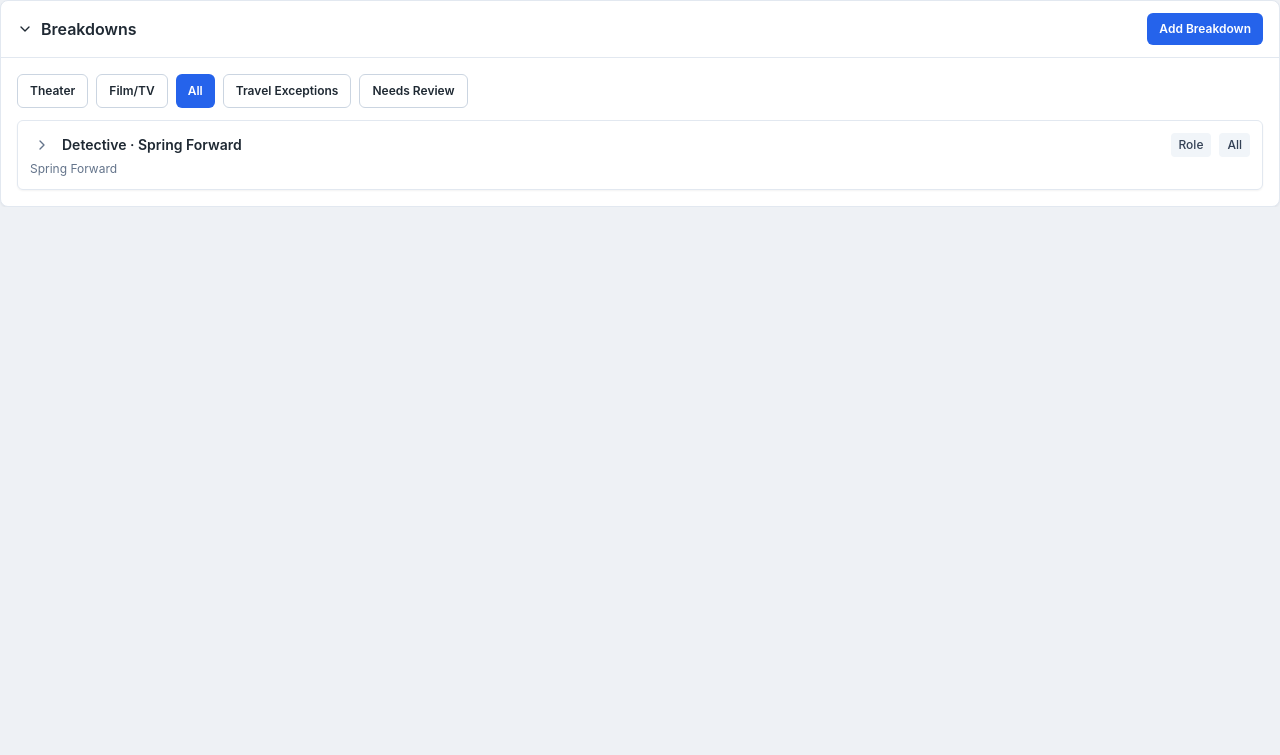
Test case: embedded opportunity form characterization › cancel discards the edit draft and reopening derives current props
Click the button named "Expand breakdown" at {"x": 42, "y": 145}, box [30, 133, 54, 157]
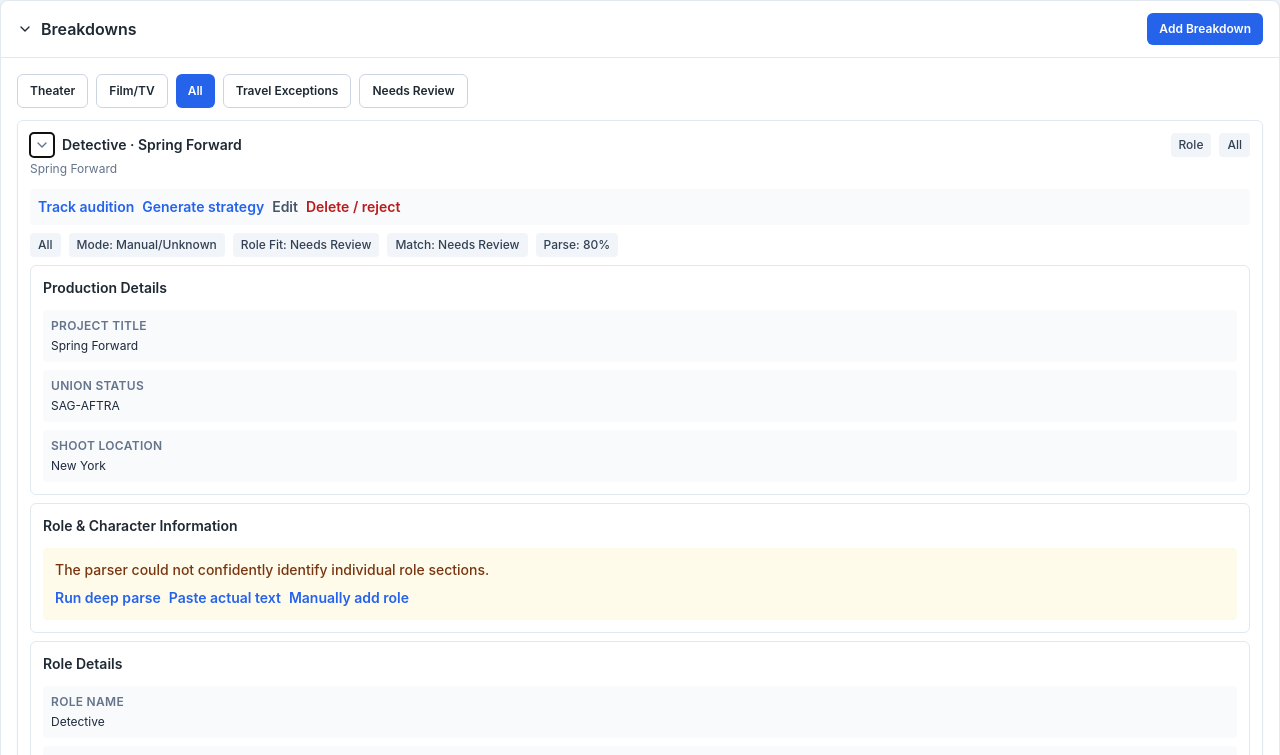
Click the button "Edit" at {"x": 285, "y": 207}, box [272, 197, 298, 217]
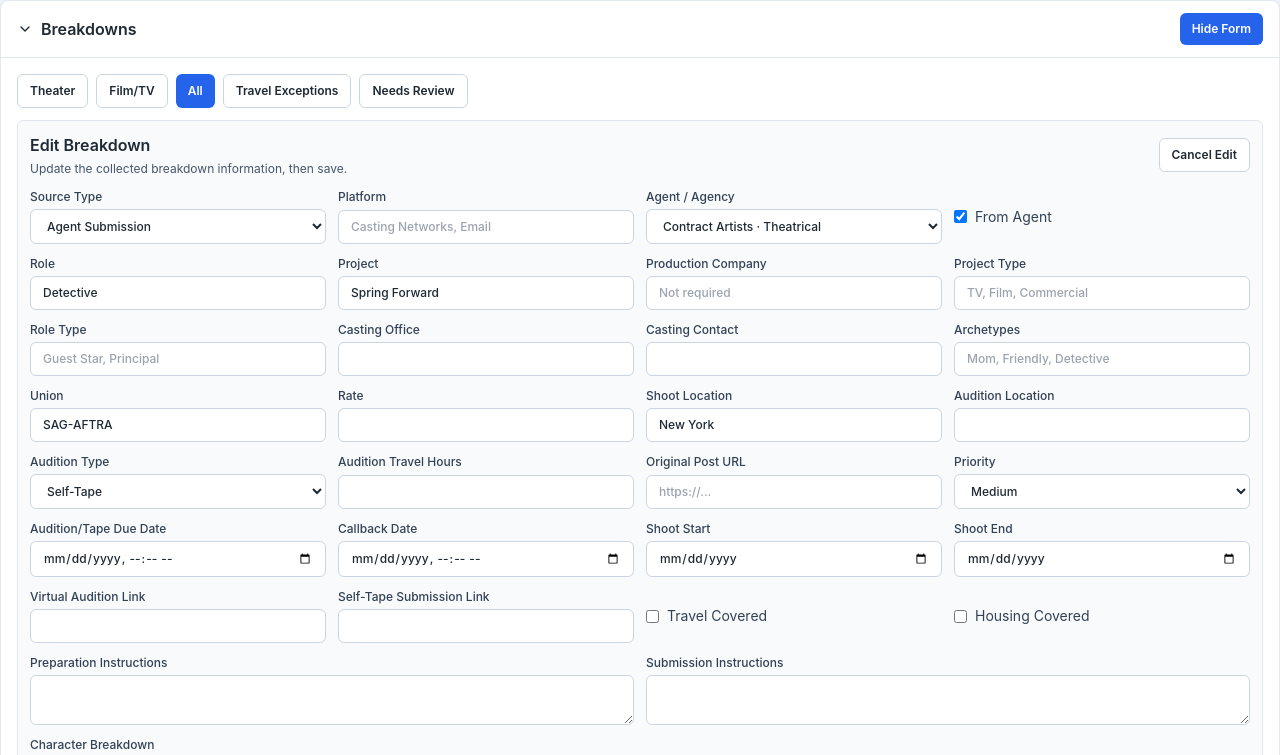
Replace the text in the field labelled "Role" with "Dirty Draft" at {"x": 178, "y": 293}, box [30, 276, 326, 310]
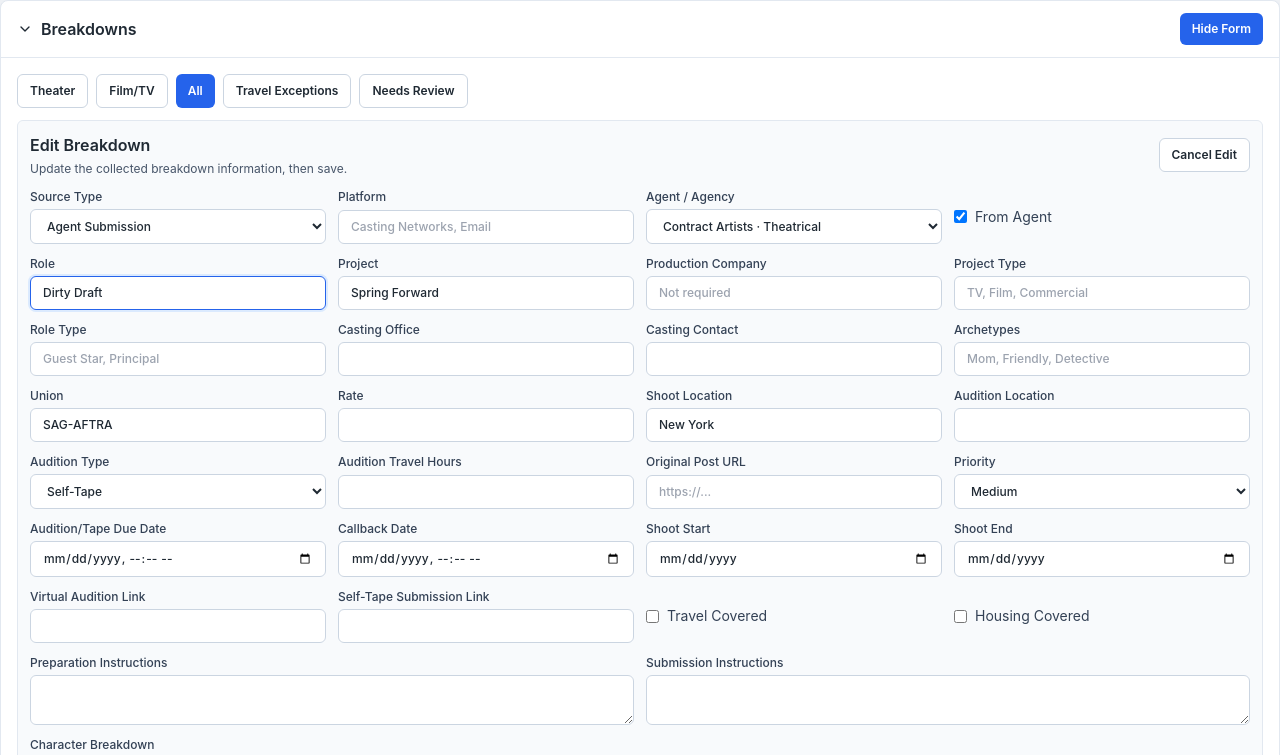
Click the button "Cancel Edit" at {"x": 1204, "y": 155}, box [1158, 138, 1250, 172]
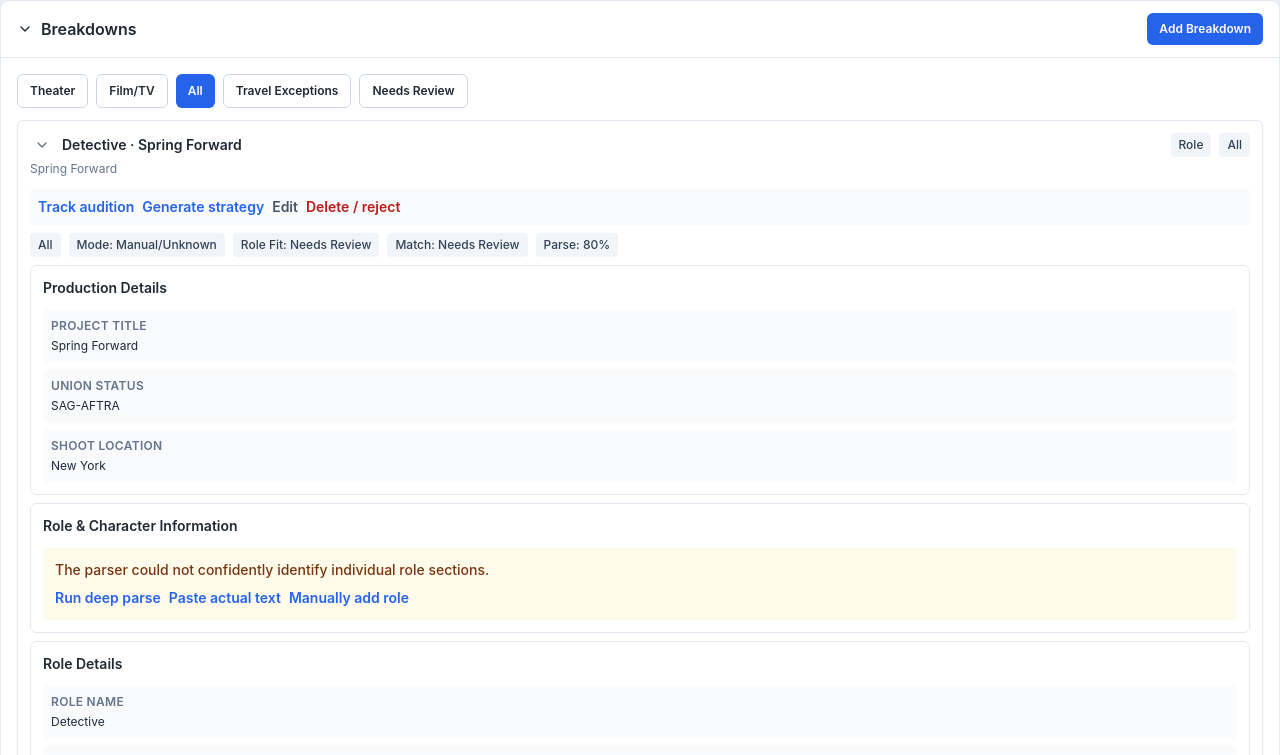
Click the button "Edit" at {"x": 285, "y": 207}, box [272, 197, 298, 217]
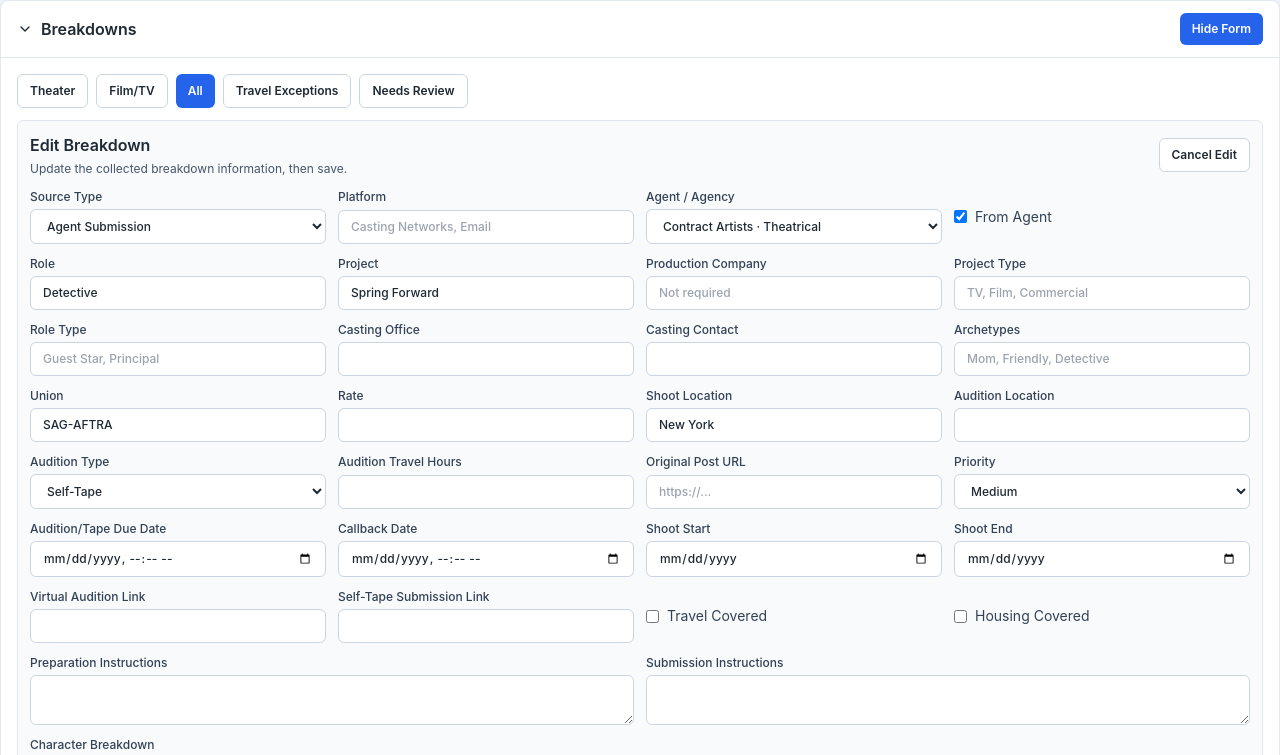
Result: the field labelled "Role" holds "Detective" at [30, 276, 326, 310]
